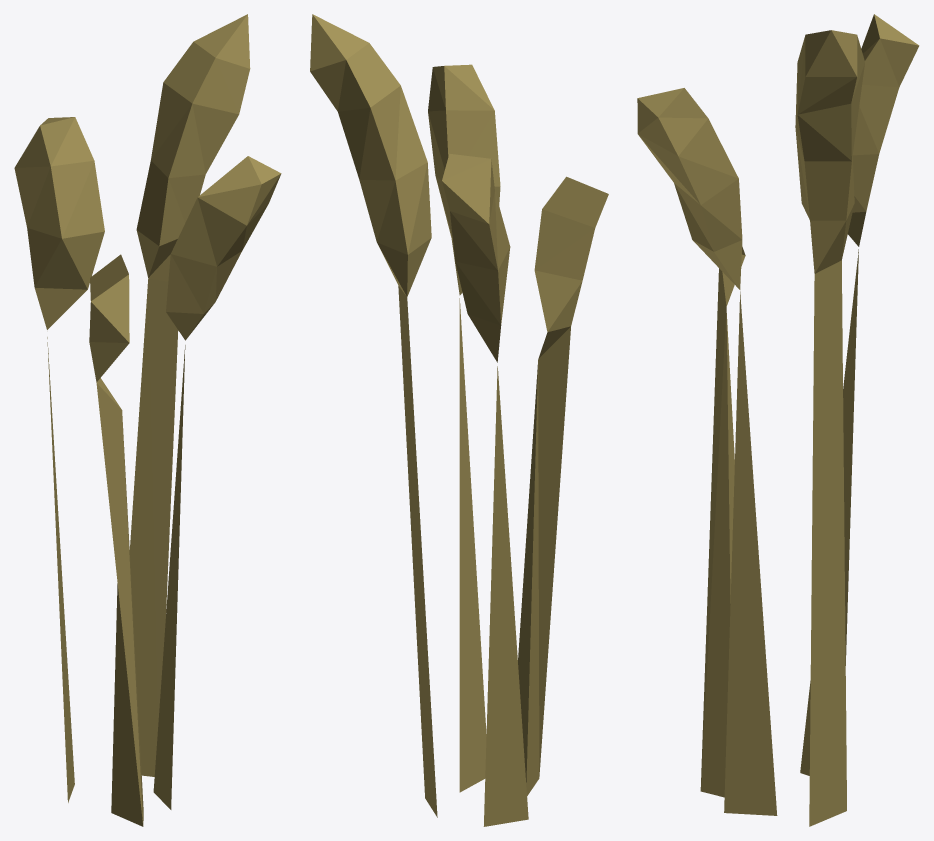
The model's file is N_Wheat_lod.glb.
The picture shows the model from 3 angles, left to right: view 1: azimuth 30°, elevation 25°; view 2: azimuth 150°, elevation 25°; view 3: azimuth 270°, elevation 25°; orthographic projection. The views are drawn at different scales.
Visible parts, largest first — view 1: Wheat; view 2: Wheat; view 3: Wheat.
Boxes of the visible parts, x1=… form: Wheat: x1=14, y1=14, x2=281, y2=826; Wheat: x1=310, y1=14, x2=608, y2=826; Wheat: x1=637, y1=14, x2=919, y2=826.
Bounding box in the file's own units: 0.3477 × 1.1 × 0.3304.
